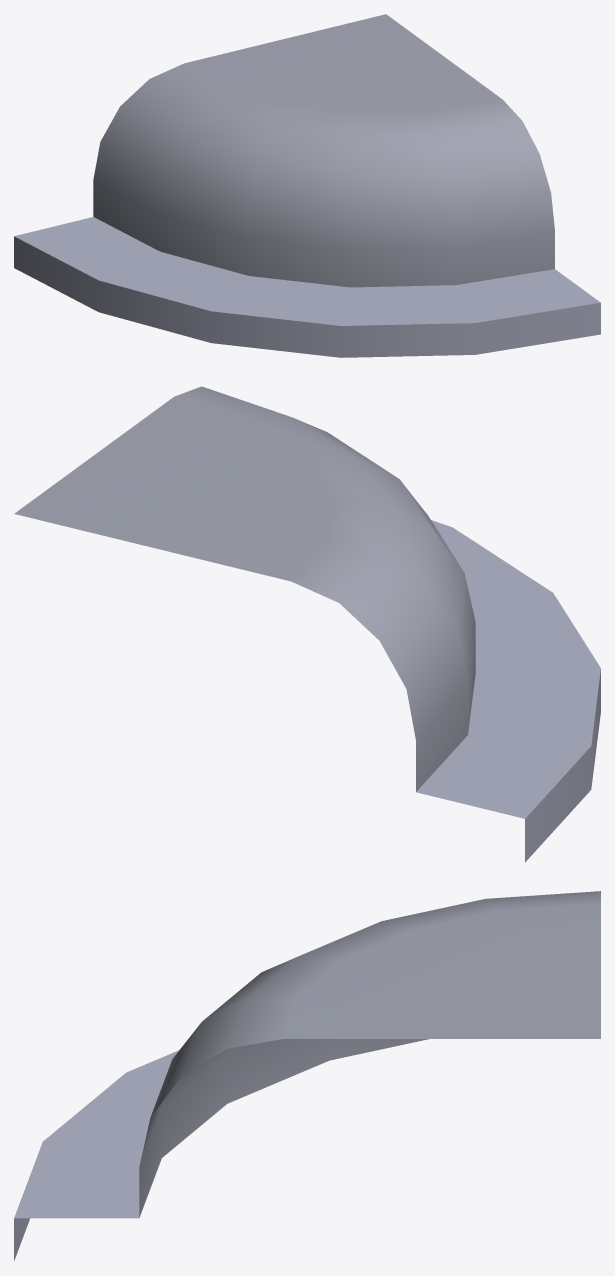
The model's file is frame_platform7.fbx.
3 renders of one model, top to bottom at view 1: azimuth 30°, elevation 25°; view 2: azimuth 150°, elevation 25°; view 3: azimuth 270°, elevation 25°, orthographic. The views are drawn at different scales.
Visible parts, largest first — view 1: frame_platform7; view 2: frame_platform7; view 3: frame_platform7.
Boxes of the visible parts, x1,y1,x2,y2 form: frame_platform7: (14, 14, 600, 357); frame_platform7: (14, 386, 600, 862); frame_platform7: (14, 891, 600, 1260).
Size of the model in its own units: 100 by 41.88 by 100.
